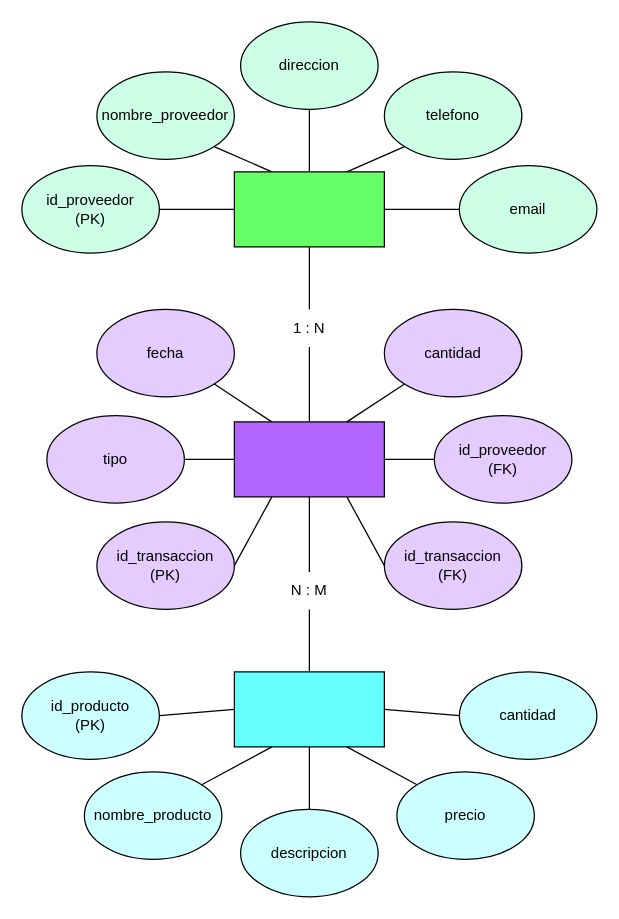
Some shapes in this 619 by 919 pixel diagram are drawn without their labels. The centre of each missing label's shape, as x and y in pixels:
"producto" goes at point (308, 709).
"proveedor" goes at point (308, 209).
"transaccion" goes at point (308, 459).
